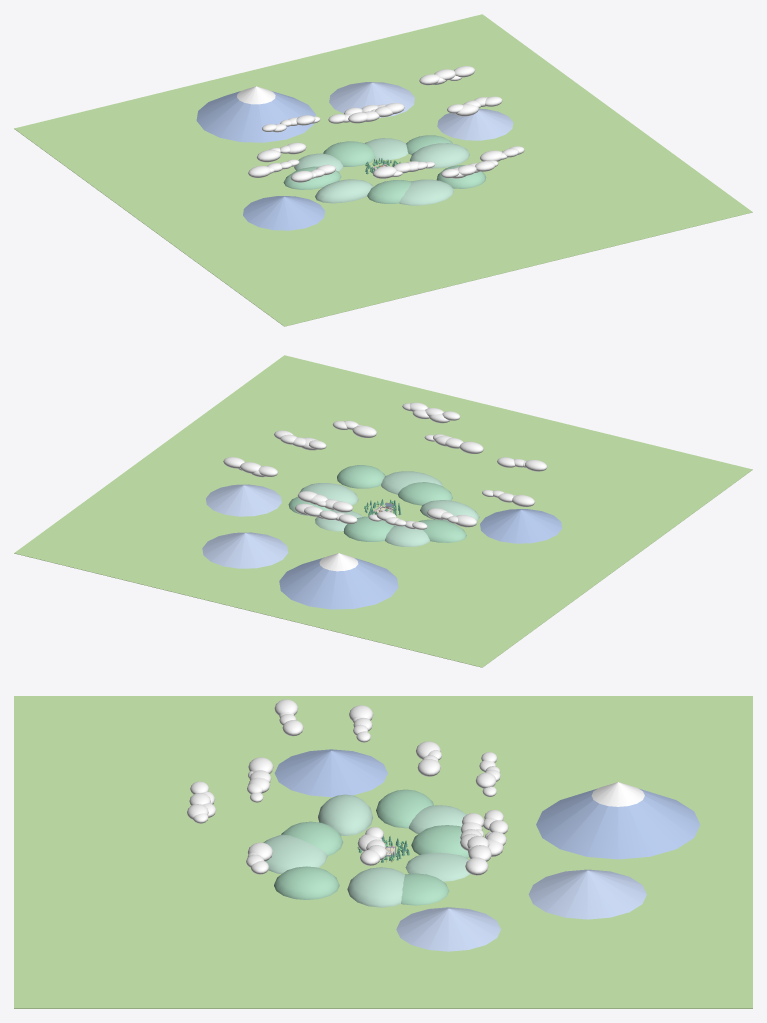
Rendered from stage_shrine.glb.
The picture shows the model from 3 angles, top to bottom: view 1: azimuth 30°, elevation 25°; view 2: azimuth 150°, elevation 25°; view 3: azimuth 270°, elevation 25°; orthographic projection. The views are drawn at different scales.
Visible parts, largest first — view 1: ground_box_001, background_cone_011, background_cone_015, background_cone_013, background_cone_014, background_sph_003, background_sph_001, background_sph_005, background_sph_008, background_sph_004, background_sph_009, background_sph_006 (+3 smaller); view 2: ground_box_001, background_cone_011, background_cone_013, background_cone_015, background_cone_014, background_sph_002, background_sph_004, background_sph_008, background_sph_006, background_sph_003, background_sph_007, background_sph_001 (+2 smaller); view 3: ground_box_001, background_cone_011, background_cone_013, background_cone_015, background_cone_014, background_sph_001, background_sph_002, background_sph_005, background_sph_003, background_sph_006, background_sph_009, background_sph_008 (+4 smaller).
Part boxes in pixels (x1,y1,x2,y2): ground_box_001: (14, 14, 752, 326); background_cone_011: (196, 91, 315, 142); background_cone_015: (243, 196, 325, 230); background_cone_013: (329, 82, 414, 117); background_cone_014: (437, 108, 513, 140); background_sph_003: (399, 179, 453, 205); background_sph_001: (410, 143, 469, 168); background_sph_005: (315, 179, 373, 203); background_sph_008: (323, 141, 375, 166); background_sph_004: (367, 180, 411, 203); background_sph_009: (365, 138, 408, 160); background_sph_006: (283, 166, 341, 189); ground_box_001: (14, 355, 752, 667); background_cone_011: (279, 557, 398, 609); background_cone_013: (202, 532, 288, 568); background_cone_015: (480, 509, 562, 543); background_cone_014: (206, 484, 281, 516); background_sph_002: (337, 465, 385, 488); background_sph_004: (398, 482, 452, 505); background_sph_008: (343, 516, 394, 541); background_sph_006: (418, 519, 466, 542); background_sph_003: (381, 471, 442, 494); background_sph_007: (385, 525, 429, 546); background_sph_001: (299, 483, 358, 505); ground_box_001: (14, 696, 752, 1008); background_cone_011: (536, 788, 700, 859); background_cone_013: (528, 869, 646, 919); background_cone_015: (274, 749, 387, 797); background_cone_014: (396, 907, 500, 951); background_sph_001: (347, 867, 404, 907); background_sph_002: (274, 866, 339, 899); background_sph_005: (318, 794, 373, 835); background_sph_003: (263, 834, 327, 873); background_sph_006: (376, 789, 433, 828); background_sph_009: (405, 852, 469, 881); background_sph_008: (411, 825, 469, 858).
Size of the model in its own units: 1700 by 229 by 1700.
